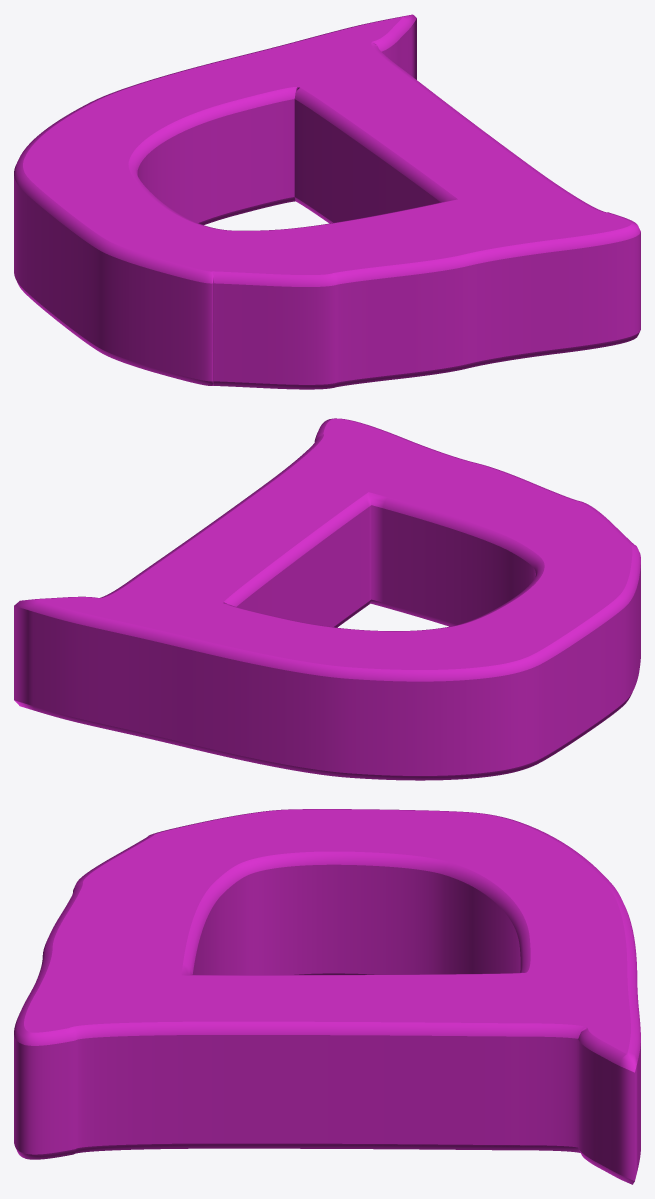
The model's file is Bubble_LetterD.fbx.
3 renders of one model, top to bottom at view 1: azimuth 30°, elevation 25°; view 2: azimuth 150°, elevation 25°; view 3: azimuth 270°, elevation 25°, orthographic. The views are drawn at different scales.
Parts seen in each view (by area): view 1: BubbleLetter_D; view 2: BubbleLetter_D; view 3: BubbleLetter_D.
Part boxes in pixels (x1,y1,x2,y2): BubbleLetter_D: (14,14,640,389); BubbleLetter_D: (14,418,640,780); BubbleLetter_D: (14,809,640,1184).
Bounding box in the file's own units: 0.6126 × 0.14 × 0.6278.
